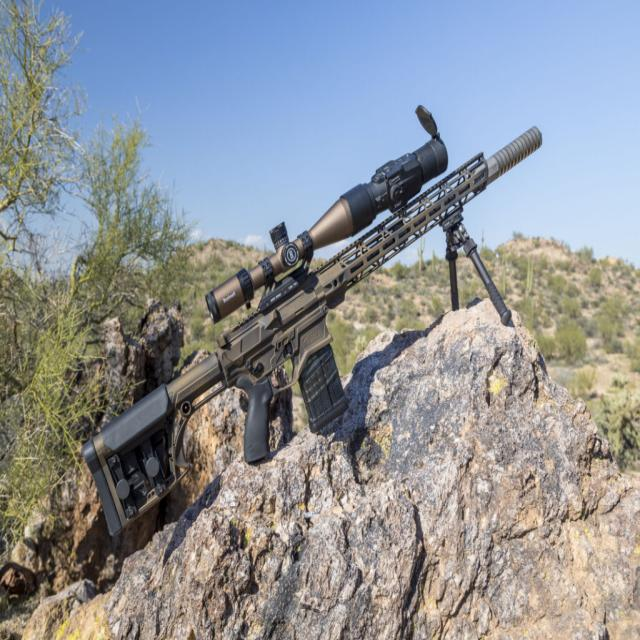Rifle: (82, 107, 542, 560)
